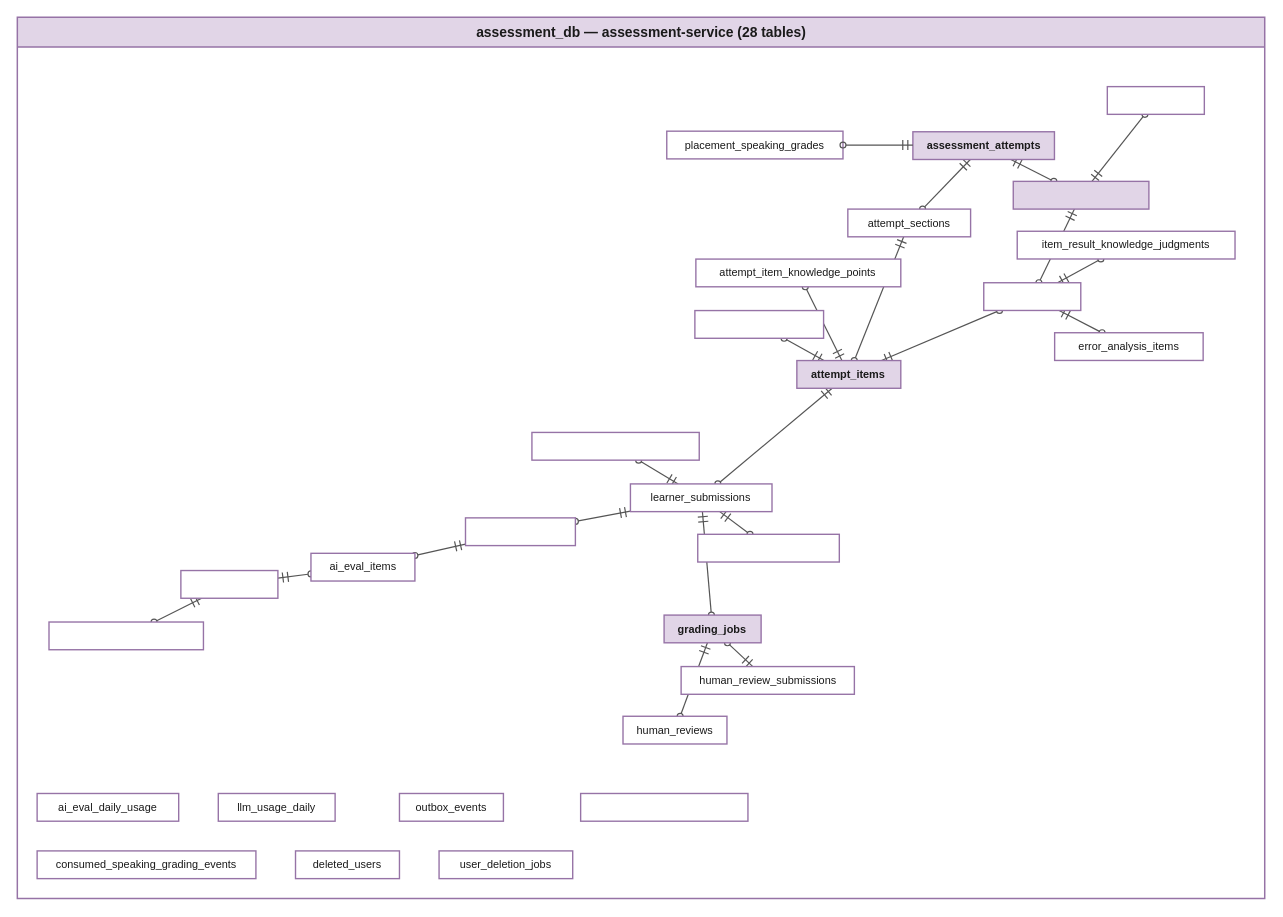
The diagram is 1283 pixels wide and 917 high, and some of its shapes have lost their labels. The shapes that lost their labels are listed below. From the top down, each one's centre as x and y in pixels, then its label:
the point at 1155,100: skill_scores
the point at 1080,194: assessment_results
the point at 1032,296: item_results
the point at 759,323: attempt_responses
the point at 615,445: essay_grade_comparisons
the point at 520,531: ai_gold_essays
the point at 768,547: examiner_qa_reviews
the point at 229,583: ai_eval_runs
the point at 126,635: ai_prompt_activations
the point at 663,806: video_practice_attempts
